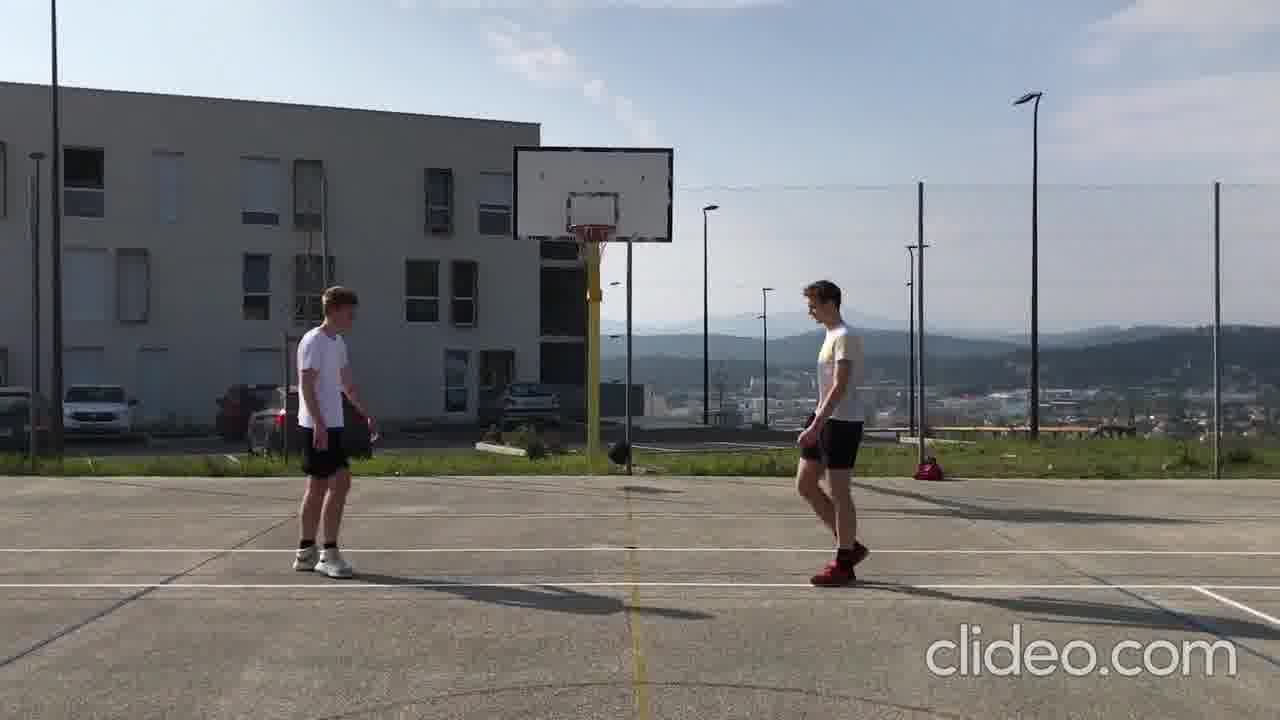jugador: (772, 274, 881, 600)
